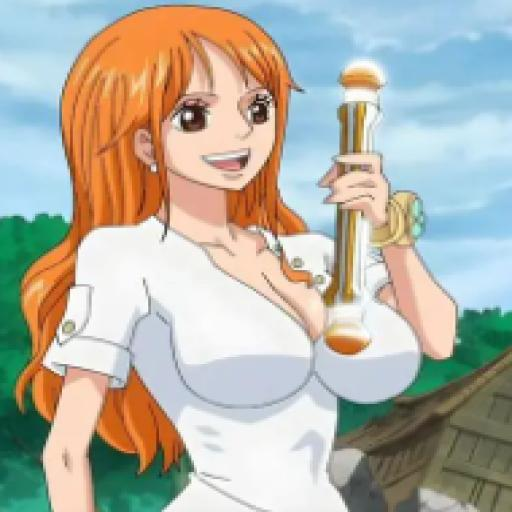Nami: (9, 5, 502, 512)
